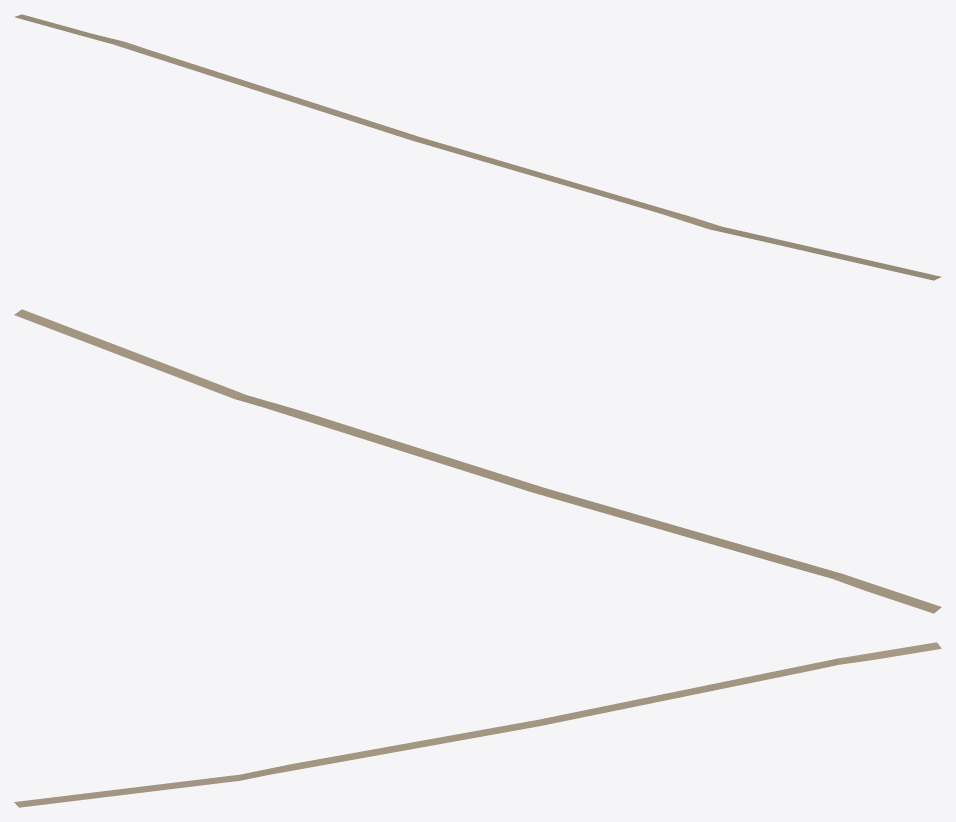
Rendered from farm_-28_-27_track.glb.
3 renders of one model, top to bottom at view 1: azimuth 30°, elevation 25°; view 2: azimuth 210°, elevation 25°; view 3: azimuth 270°, elevation 25°, orthographic. The views are drawn at different scales.
Parts seen in each view (by area): view 1: geometry_0; view 2: geometry_0; view 3: geometry_0.
Part boxes in pixels (box(x1,y1,x2,y2)): geometry_0: box(14, 14, 941, 280); geometry_0: box(14, 309, 941, 613); geometry_0: box(14, 642, 941, 807).
Size of the model in its own units: 114 by 5.36 by 248.
